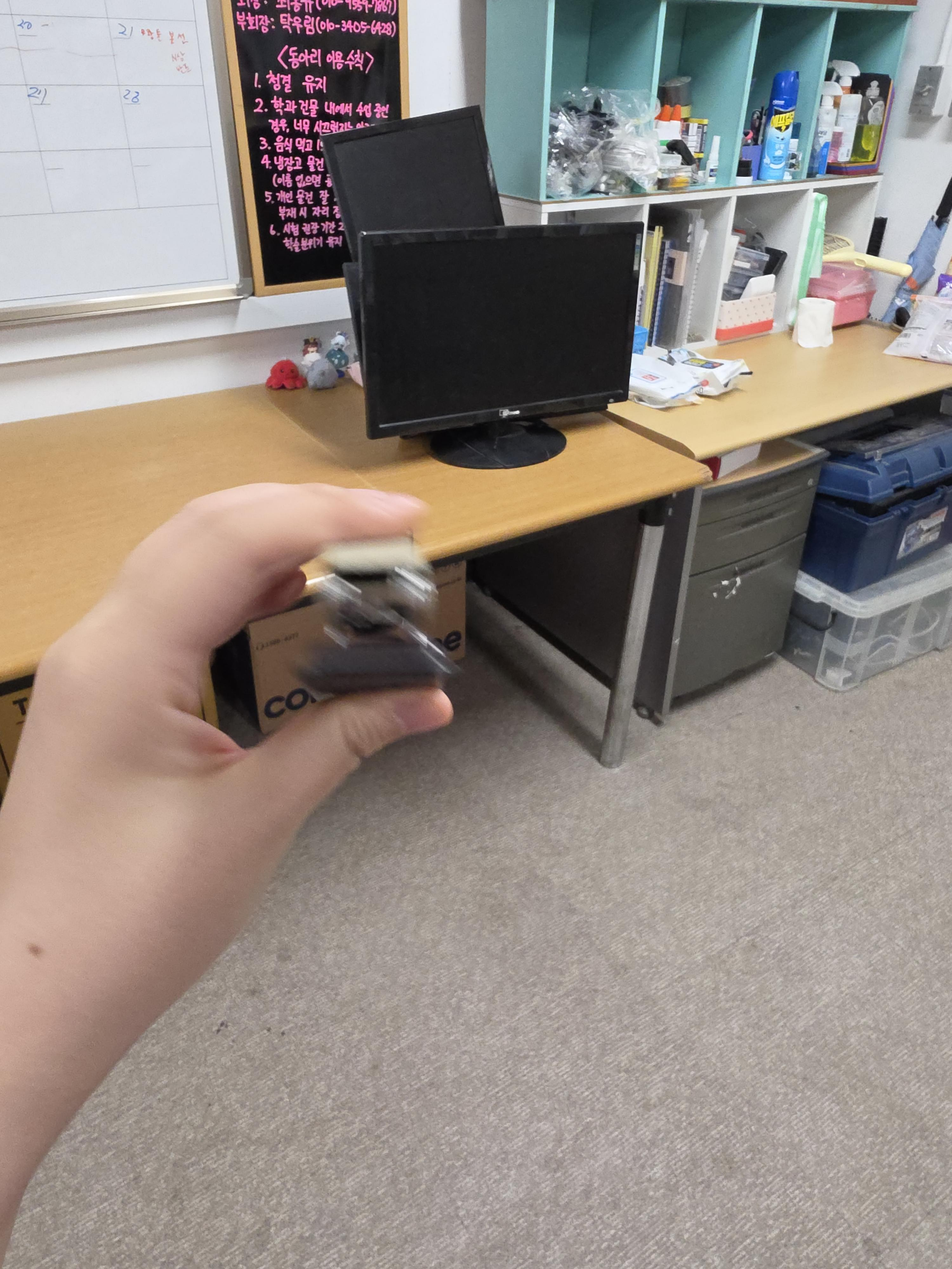stapler: (298, 535, 460, 699)
tissue: (797, 298, 835, 350)
